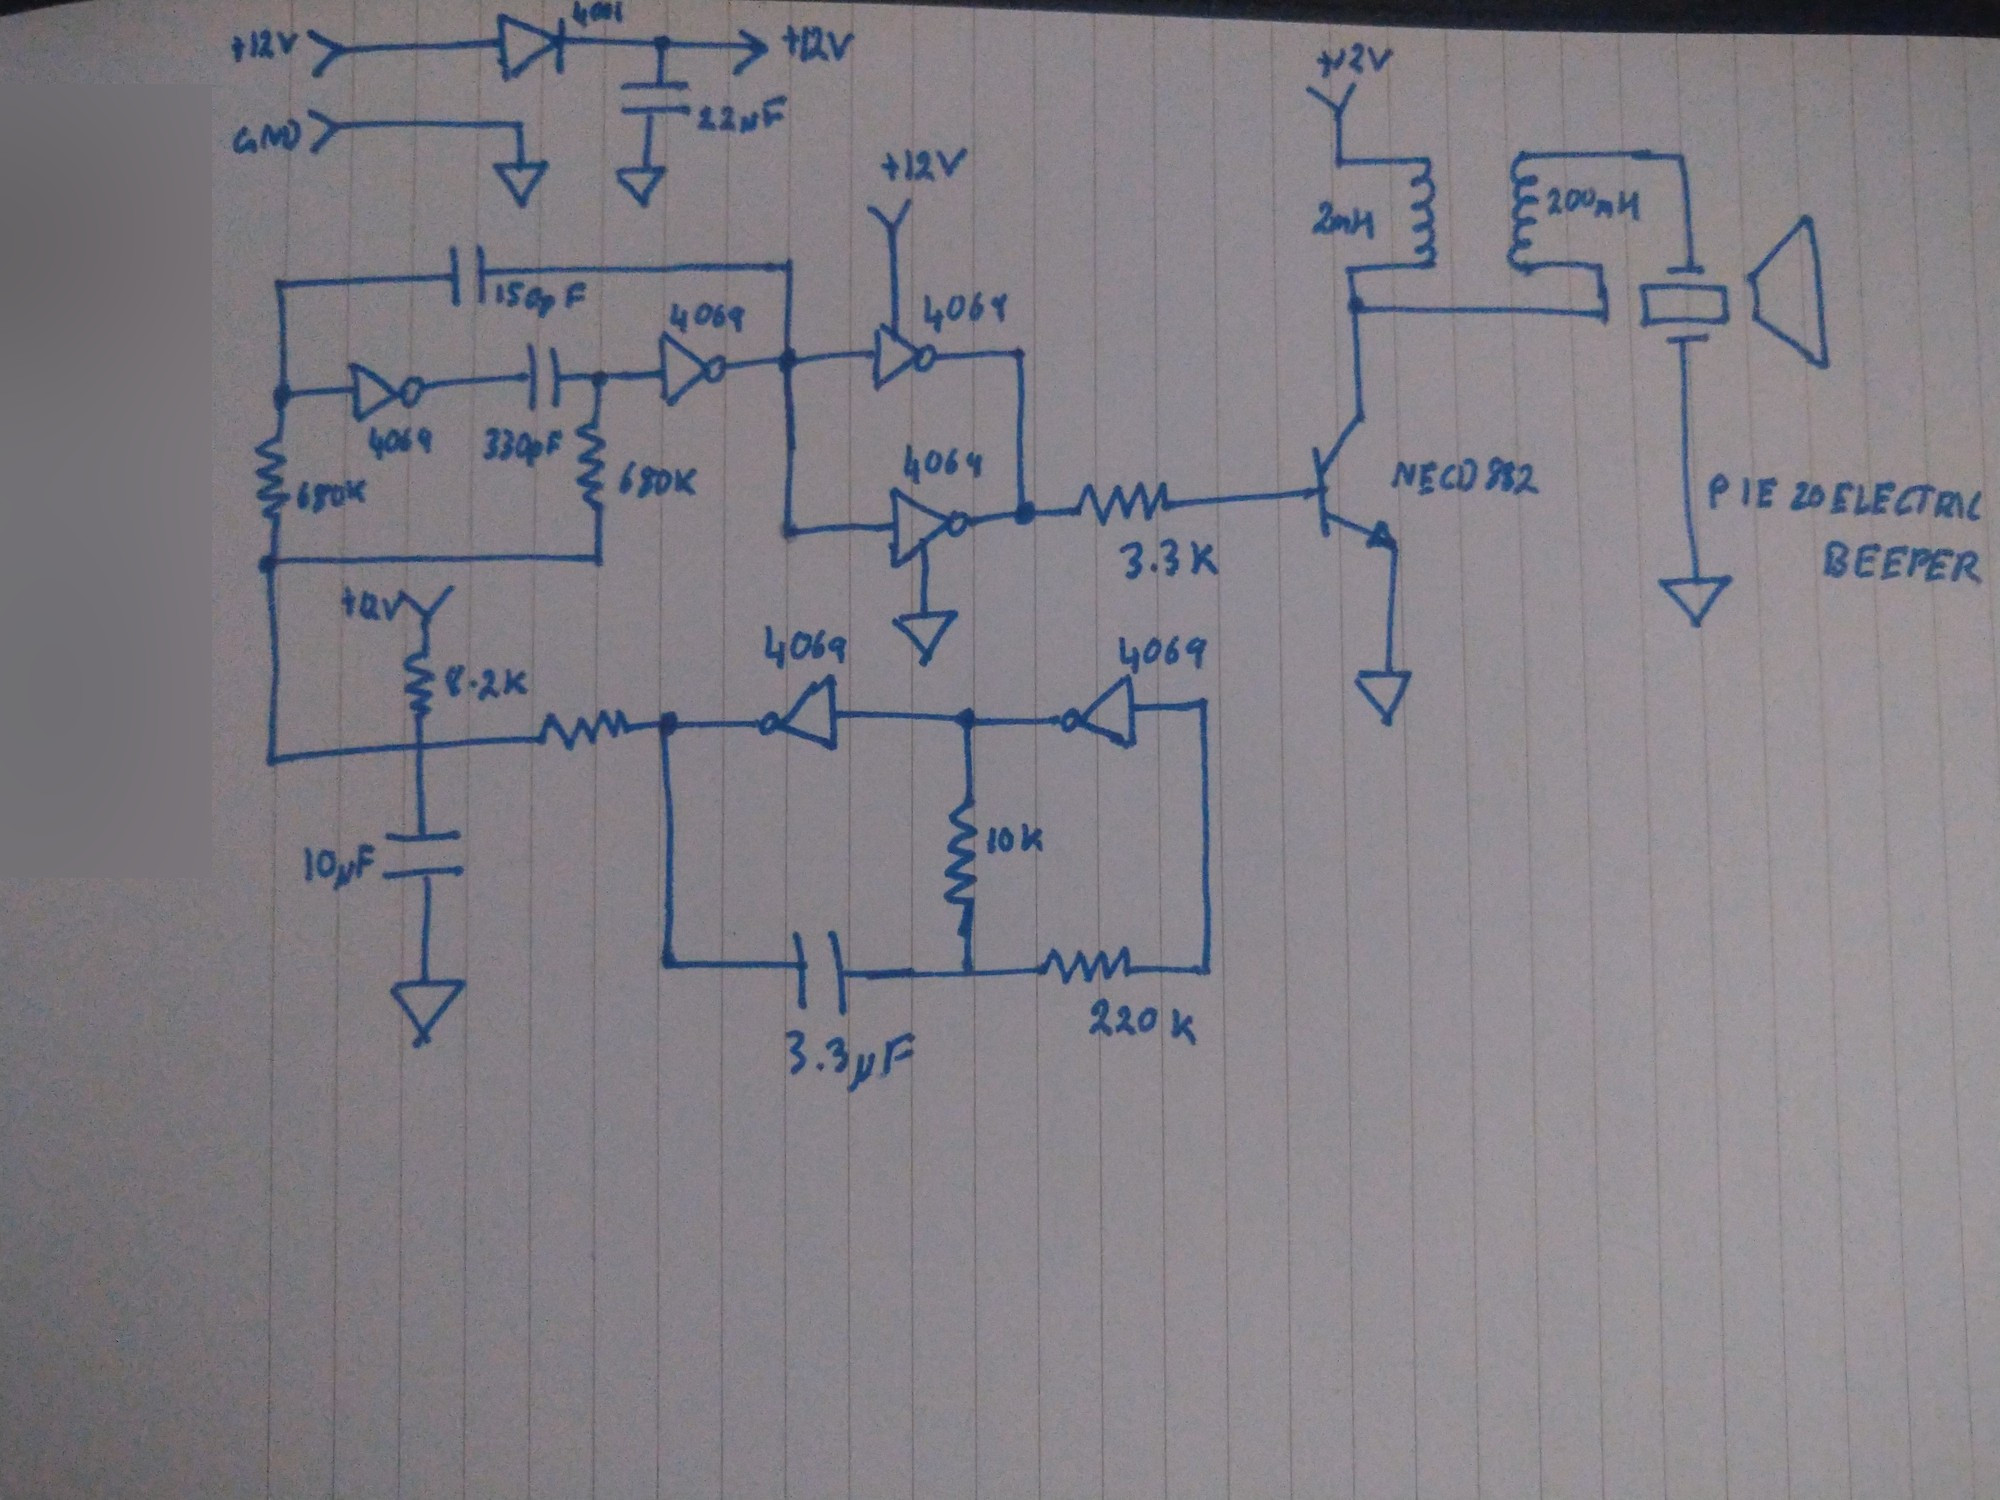capacitor.unpolarized: (784, 923, 858, 1019), (380, 826, 469, 887), (616, 69, 691, 131), (518, 340, 572, 414), (439, 239, 494, 310)
crossover: (400, 734, 436, 759)
diode: (490, 9, 572, 82)
gnd: (383, 974, 472, 1056), (887, 600, 969, 670), (1654, 569, 1739, 633), (1351, 663, 1417, 730), (490, 156, 553, 214), (611, 162, 672, 213)
inductor: (1506, 143, 1542, 280), (1403, 151, 1441, 276)
junction: (650, 703, 690, 748), (1002, 495, 1043, 534), (646, 942, 690, 978), (263, 375, 302, 414), (770, 340, 808, 380), (948, 700, 989, 734), (998, 339, 1039, 372), (772, 512, 808, 548), (249, 547, 287, 580), (258, 744, 293, 778), (1184, 689, 1220, 720), (583, 545, 620, 575), (946, 956, 984, 986), (646, 27, 680, 58), (1340, 293, 1376, 321), (1191, 953, 1220, 985), (776, 251, 806, 282), (583, 364, 616, 392), (506, 110, 540, 137), (266, 269, 298, 296), (1594, 299, 1620, 328), (1672, 145, 1699, 170), (1335, 257, 1364, 280), (1324, 147, 1353, 170), (1583, 255, 1613, 277)
not: (748, 671, 849, 761), (880, 484, 975, 574), (1054, 671, 1146, 756), (654, 328, 737, 413), (342, 355, 431, 422), (861, 321, 942, 394)
resistor: (1028, 936, 1156, 988), (937, 786, 984, 915), (1071, 477, 1183, 531), (526, 707, 643, 755), (565, 418, 616, 520), (246, 425, 294, 531), (398, 640, 439, 731)
speaker: (1635, 217, 1843, 375)
terminal: (299, 22, 353, 84), (854, 192, 926, 236), (302, 99, 346, 162), (731, 22, 775, 80), (1302, 79, 1365, 117), (397, 581, 457, 621)
text: (1701, 466, 1986, 528), (1813, 533, 1989, 592), (781, 1024, 918, 1097), (1384, 454, 1545, 504), (1085, 993, 1202, 1049), (872, 140, 980, 189), (1112, 533, 1225, 578), (756, 621, 850, 674), (778, 17, 869, 72), (918, 287, 1014, 337), (1110, 630, 1213, 678), (1542, 183, 1647, 228), (613, 454, 702, 506), (893, 440, 987, 488), (693, 93, 791, 140), (298, 838, 380, 893), (474, 421, 564, 470), (1310, 36, 1398, 84), (491, 279, 589, 321), (439, 660, 532, 703), (665, 296, 757, 336), (291, 474, 373, 518), (1304, 199, 1380, 241), (362, 422, 439, 463), (332, 581, 402, 626), (227, 120, 304, 159), (225, 25, 299, 63), (983, 821, 1052, 859), (570, 2, 628, 32)
transistor: (1302, 408, 1402, 558)
